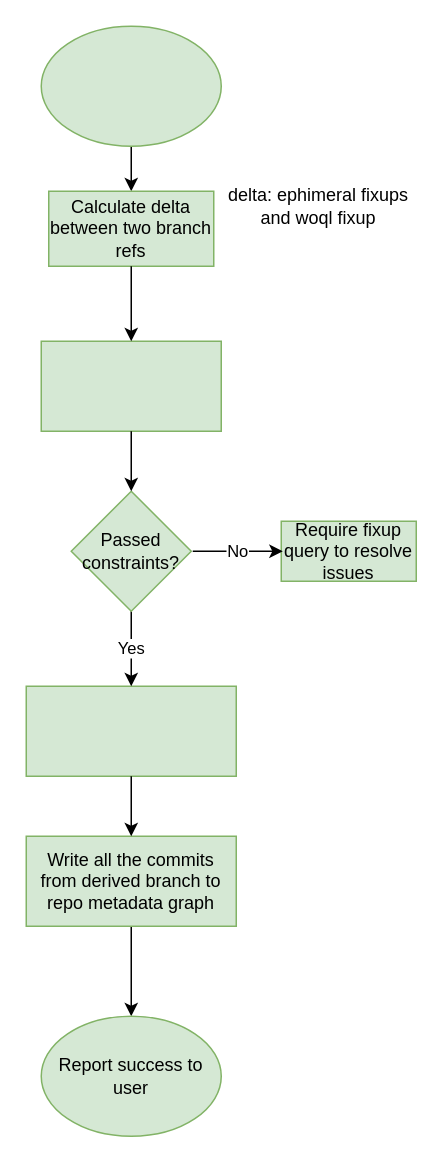
The diagram is 443 pixels wide and 1163 high, and some of its shapes have lost their labels. The shapes that lost their labels are listed below. From the top down, each one's box as (x1, y1, x2, y2) in pixels, then its label:
(40, 25, 221, 146): Rebase with branch name
(40, 340, 221, 431): Create a new layer with the delta
(25, 685, 236, 776): Commit and write all the commits from derived branch to repo metadata graph
